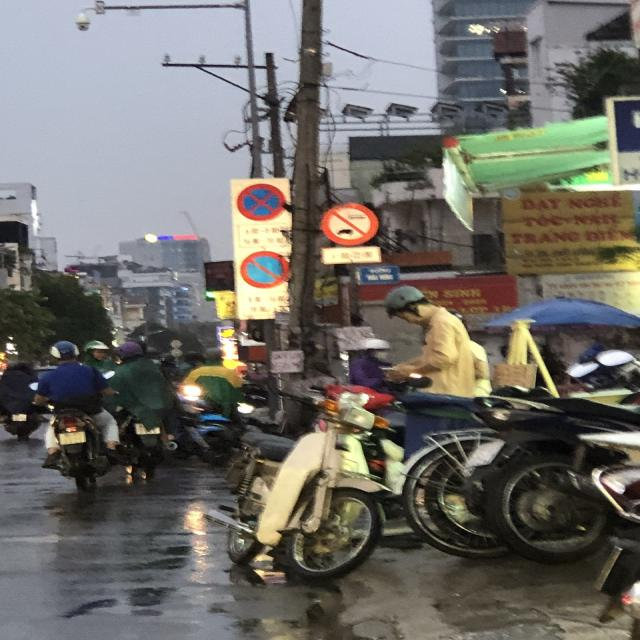Bien bao cam dung xe va do xe: (233, 181, 288, 225)
Bien bao cam xe oto khach va xe oto tai: (316, 199, 385, 247)
